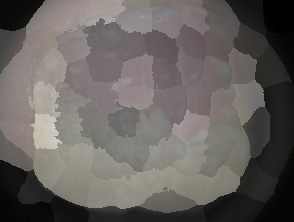Nail_psoriasis: (18, 0, 279, 222)
